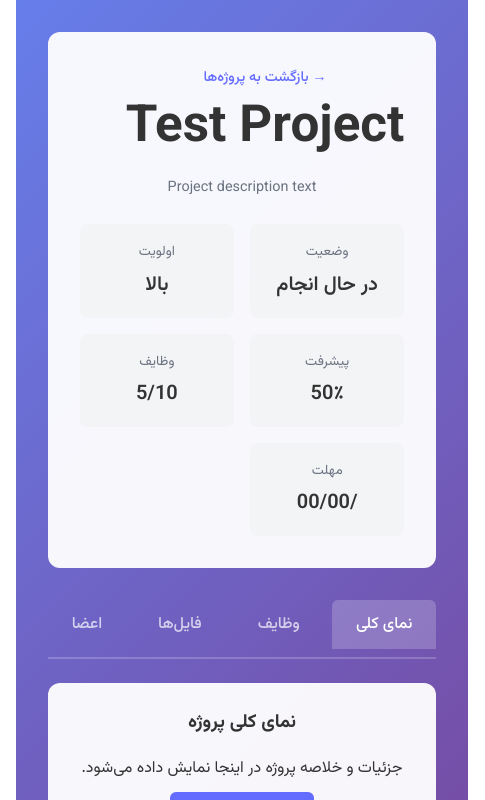
Scenario: ProjectDetail › shows empty members message when no members
Check: the heading "Test Project" is shown, box [126,98,404,160]
Click the button "اعضا". click: click(87, 624)
box: [48,600,126,649]
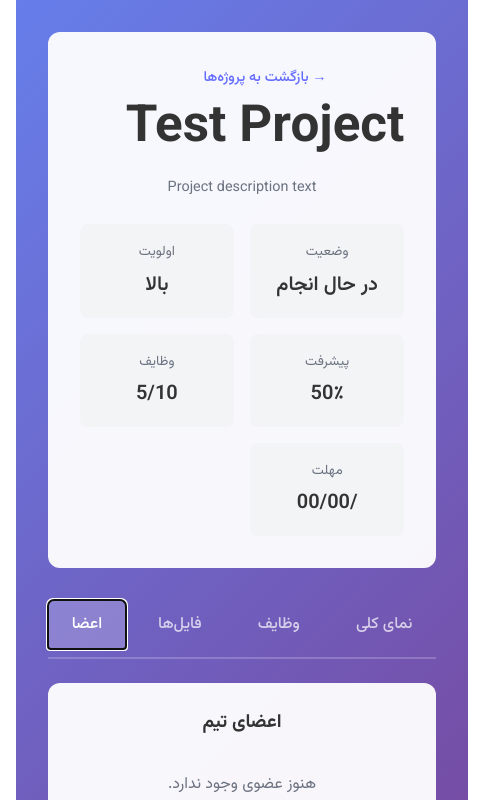
Check: the list item "هنوز عضوی وجود ندارد." is shown, box [168,772,316,796]
